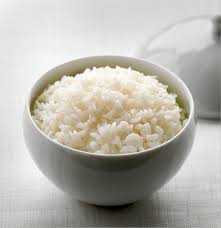ssalbab: (28, 64, 190, 155)
